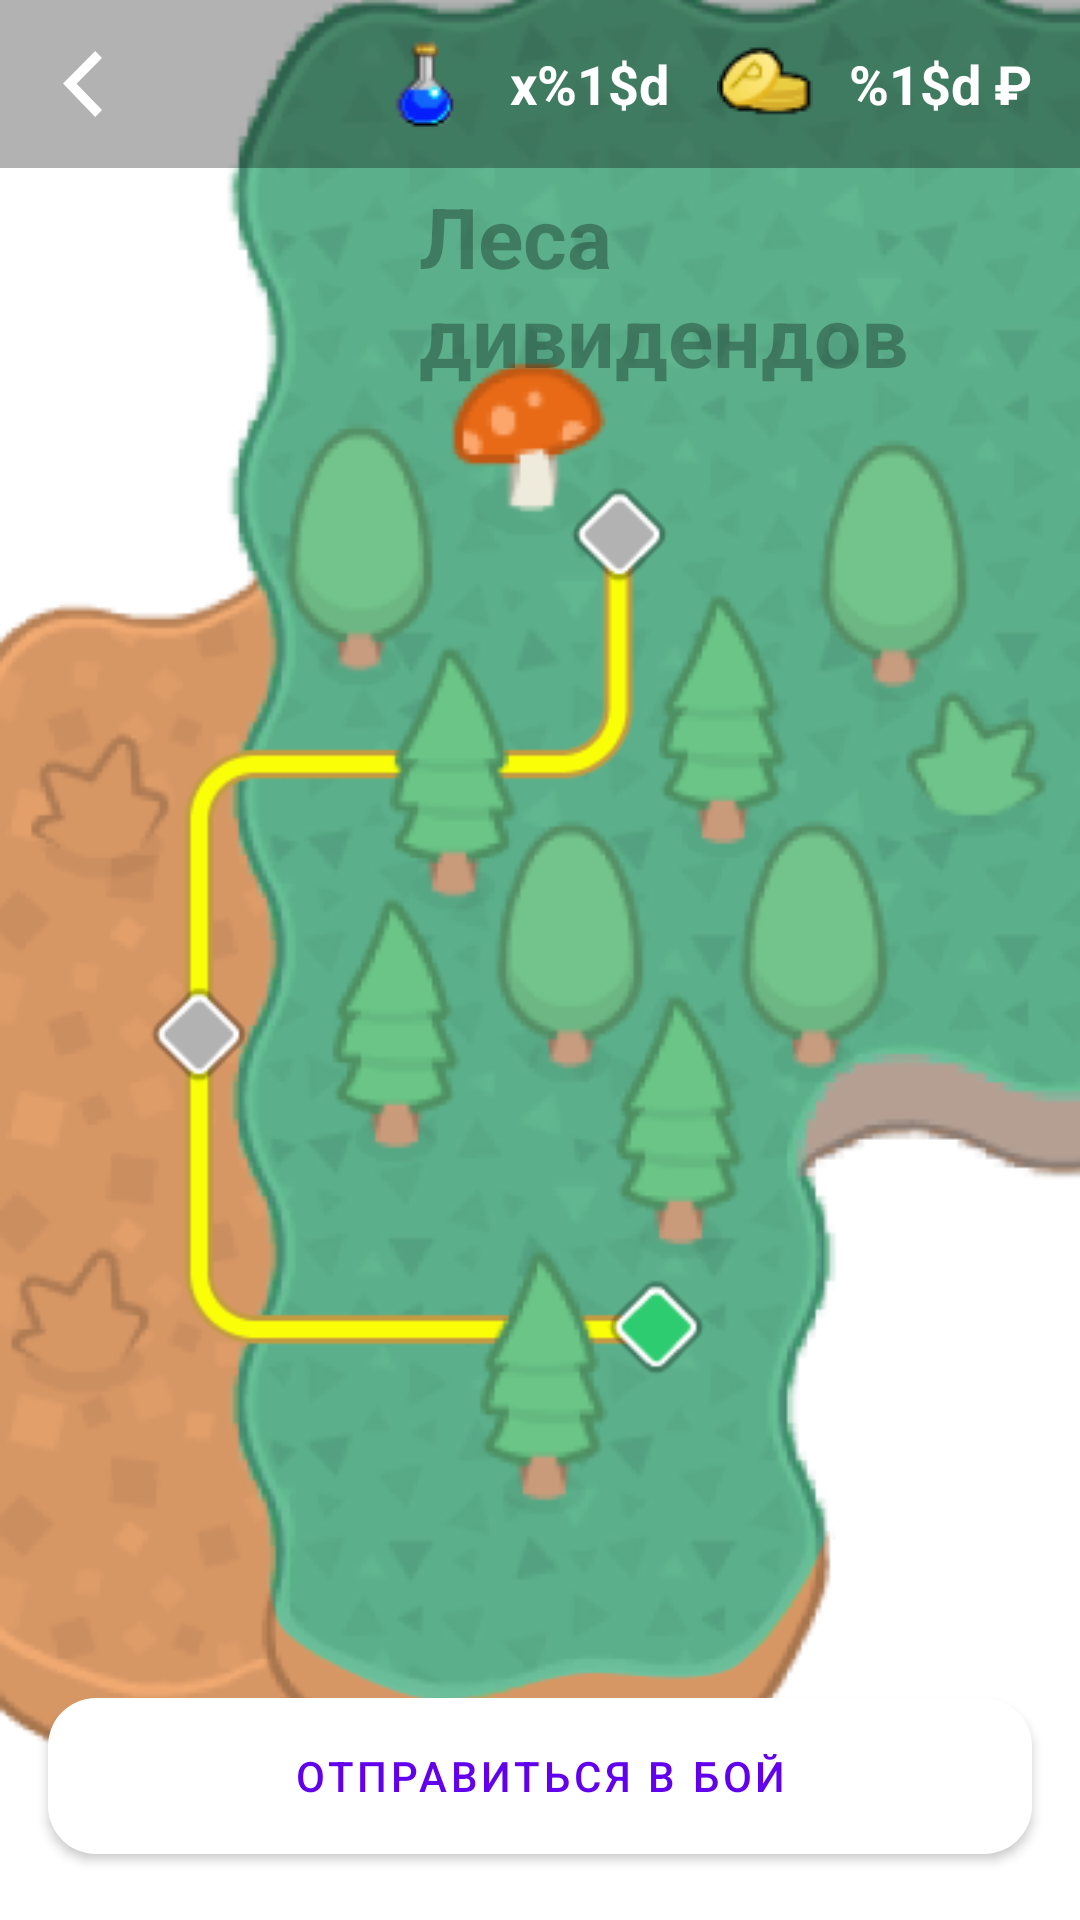

Named icons in this screenshot (1080w x 1920h) and their bounding boxes, bbox(x1, y1, x2, y2):
back: bbox(63, 51, 102, 117)
coins: bbox(717, 47, 811, 115)
potion: bbox(396, 42, 454, 127)
